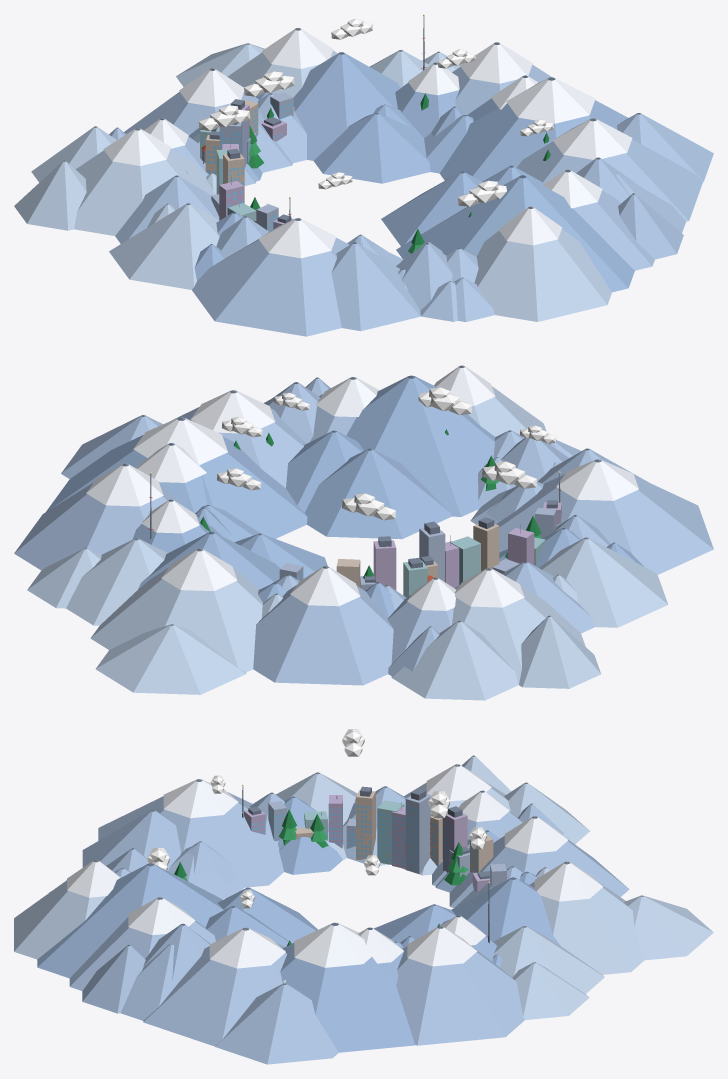
File: backdrop.glb
3 renders of one model, top to bottom at view 1: azimuth 30°, elevation 25°; view 2: azimuth 150°, elevation 25°; view 3: azimuth 270°, elevation 25°, orthographic. The views are drawn at different scales.
Visible parts, largest first — view 1: Hill_49, Hill_61, Hill_64, Hill_16, Hill_34, Hill_40, Hill_18, Hill_01, Hill_52, Hill_73, Hill_36, Hill_66 (+36 smaller); view 2: Hill_64, Hill_25, Hill_49, Hill_19, Hill_66, Hill_01, Hill_21, Hill_40, Hill_07, Hill_35, Hill_13, Hill_36 (+42 smaller); view 3: Hill_07, Hill_01, Hill_73, Hill_64, Hill_74, Hill_19, Hill_49, Hill_16, Hill_61, Hill_21, Hill_13, Hill_25 (+38 smaller).
Part boxes in pixels (x1=…): Hill_49: x1=192, y1=218, x2=349, y2=336; Hill_61: x1=474, y1=207, x2=611, y2=321; Hill_64: x1=396, y1=175, x2=634, y2=292; Hill_16: x1=293, y1=52, x2=400, y2=160; Hill_34: x1=74, y1=128, x2=215, y2=235; Hill_40: x1=109, y1=203, x2=219, y2=289; Hill_18: x1=314, y1=112, x2=430, y2=183; Hill_01: x1=439, y1=77, x2=627, y2=181; Hill_52: x1=331, y1=242, x2=420, y2=331; Hill_73: x1=517, y1=118, x2=702, y2=221; Hill_36: x1=14, y1=160, x2=86, y2=230; Hill_66: x1=381, y1=171, x2=482, y2=246; Hill_64: x1=346, y1=375, x2=495, y2=516; Hill_25: x1=253, y1=566, x2=393, y2=685; Hill_49: x1=496, y1=459, x2=713, y2=574; Hill_19: x1=90, y1=548, x2=263, y2=672; Hill_66: x1=305, y1=448, x2=451, y2=539; Hill_01: x1=46, y1=417, x2=307, y2=538; Hill_21: x1=95, y1=624, x2=246, y2=694; Hill_40: x1=539, y1=537, x2=668, y2=627; Hill_07: x1=14, y1=464, x2=180, y2=570; Hill_35: x1=391, y1=620, x2=518, y2=700; Hill_13: x1=66, y1=538, x2=167, y2=625; Hill_36: x1=519, y1=615, x2=600, y2=688; Hill_07: x1=396, y1=926, x2=524, y2=1045; Hill_01: x1=280, y1=923, x2=414, y2=1052; Hill_73: x1=143, y1=928, x2=287, y2=1046; Hill_64: x1=37, y1=863, x2=223, y2=978; Hill_74: x1=215, y1=983, x2=338, y2=1064; Hill_19: x1=529, y1=862, x2=644, y2=974; Hill_49: x1=98, y1=779, x2=283, y2=887; Hill_16: x1=451, y1=877, x2=560, y2=945; Hill_61: x1=14, y1=860, x2=106, y2=959; Hill_21: x1=624, y1=895, x2=713, y2=960; Hill_13: x1=493, y1=926, x2=604, y2=993; Hill_25: x1=449, y1=816, x2=629, y2=907.
Bounding box in the file's own units: 444 × 89.35 × 466.
